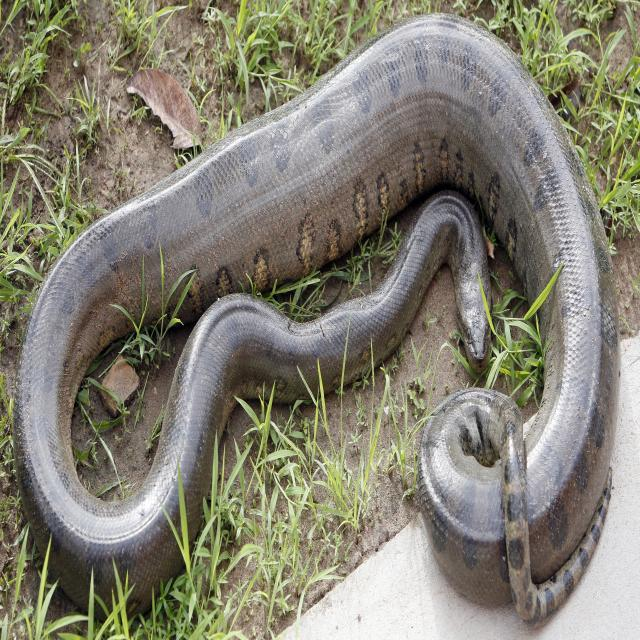Snake: (11, 13, 626, 640)
